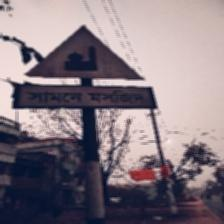Mosque in front: (18, 24, 154, 111)
